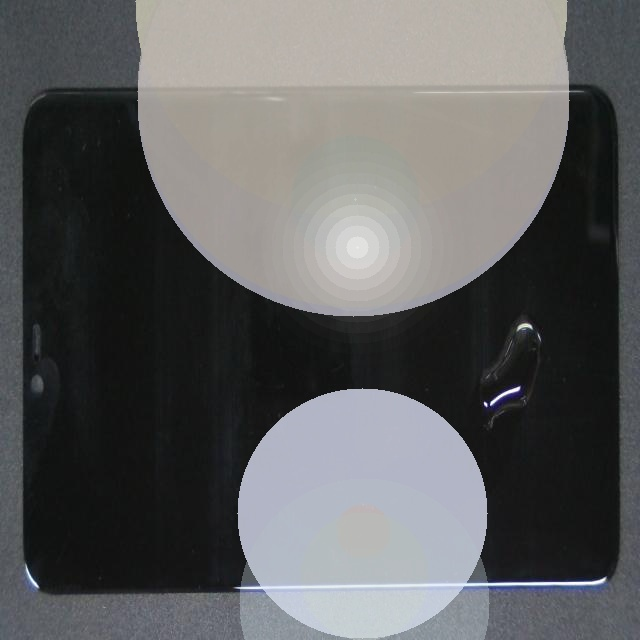oil: (288, 174, 640, 486)
